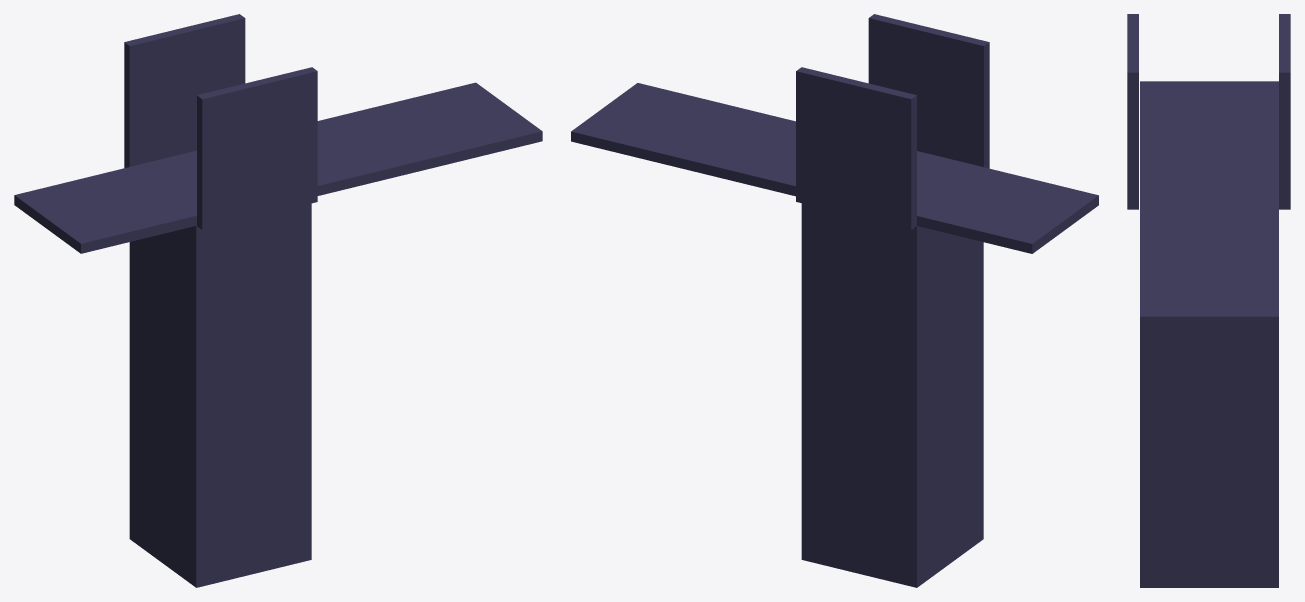
Rendered from platform-Rot_1x4x4m.fbx.
The picture shows the model from 3 angles, left to right: view 1: azimuth 30°, elevation 25°; view 2: azimuth 150°, elevation 25°; view 3: azimuth 270°, elevation 25°; orthographic projection. The views are drawn at different scales.
Parts seen in each view (by area): view 1: Cube; view 2: Cube; view 3: Cube.
Boxes of the visible parts, x1=… form: Cube: x1=14, y1=14, x2=542, y2=587; Cube: x1=571, y1=14, x2=1098, y2=587; Cube: x1=1127, y1=14, x2=1290, y2=587.
Bounding box in the file's own units: 1200 × 1225 × 352.
